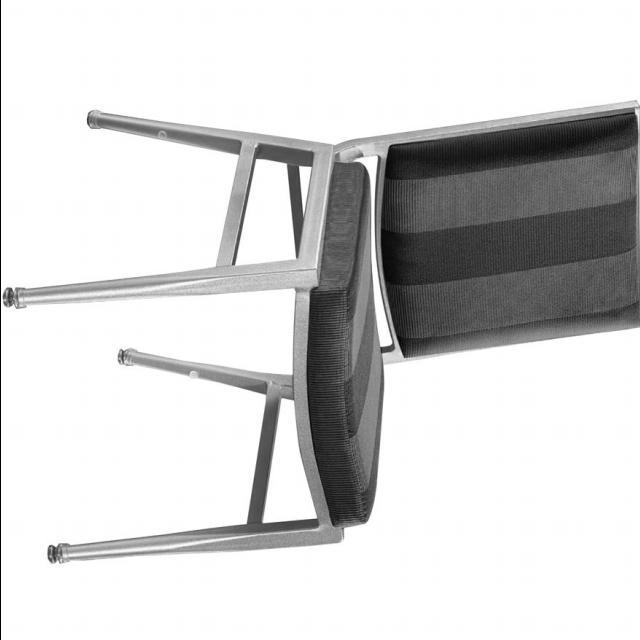chair: (0, 97, 640, 568)
